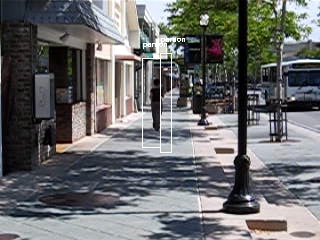person: (150, 79, 167, 132), (149, 79, 166, 132), (151, 79, 168, 132), (150, 78, 167, 131), (150, 80, 167, 133)
target_negative: (39, 166, 312, 208), (213, 76, 237, 116), (172, 232, 232, 236), (316, 176, 317, 233), (290, 191, 311, 192)
